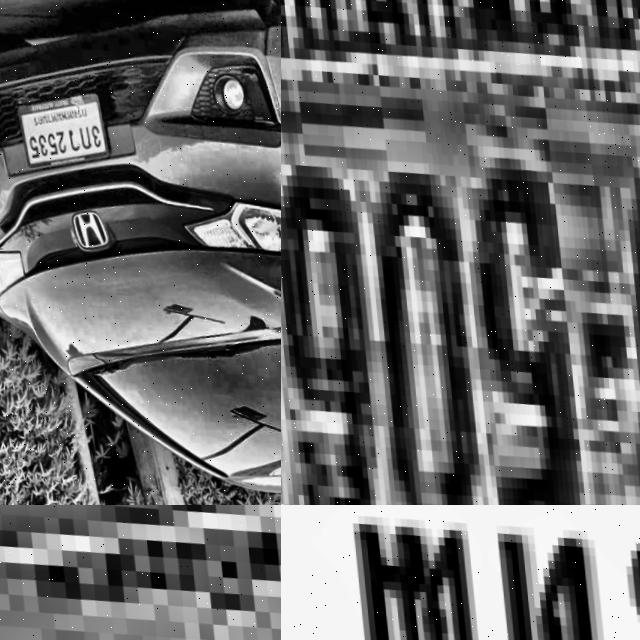license-plate: (281, 0, 640, 505), (281, 505, 640, 640), (0, 505, 281, 640), (9, 79, 109, 174)
